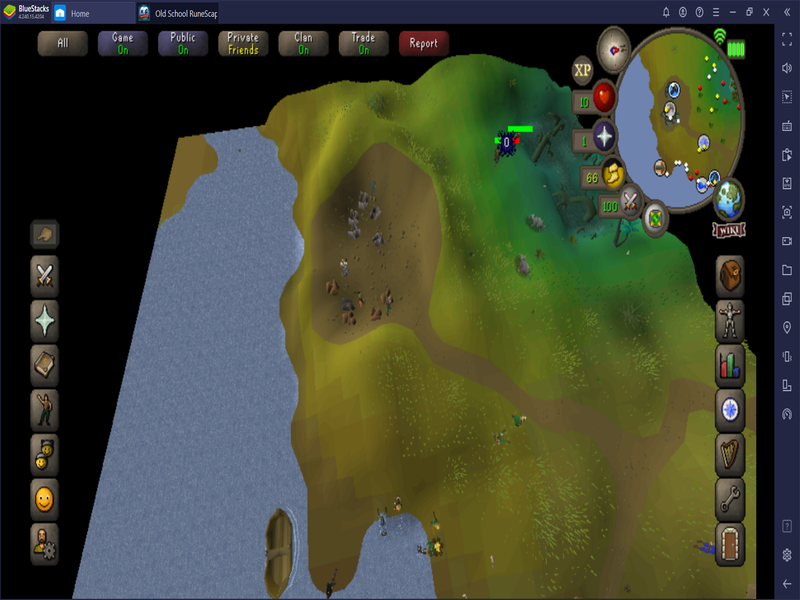copper_rock_1: (380, 288, 397, 306)
copper_rock_2: (369, 305, 382, 323)
